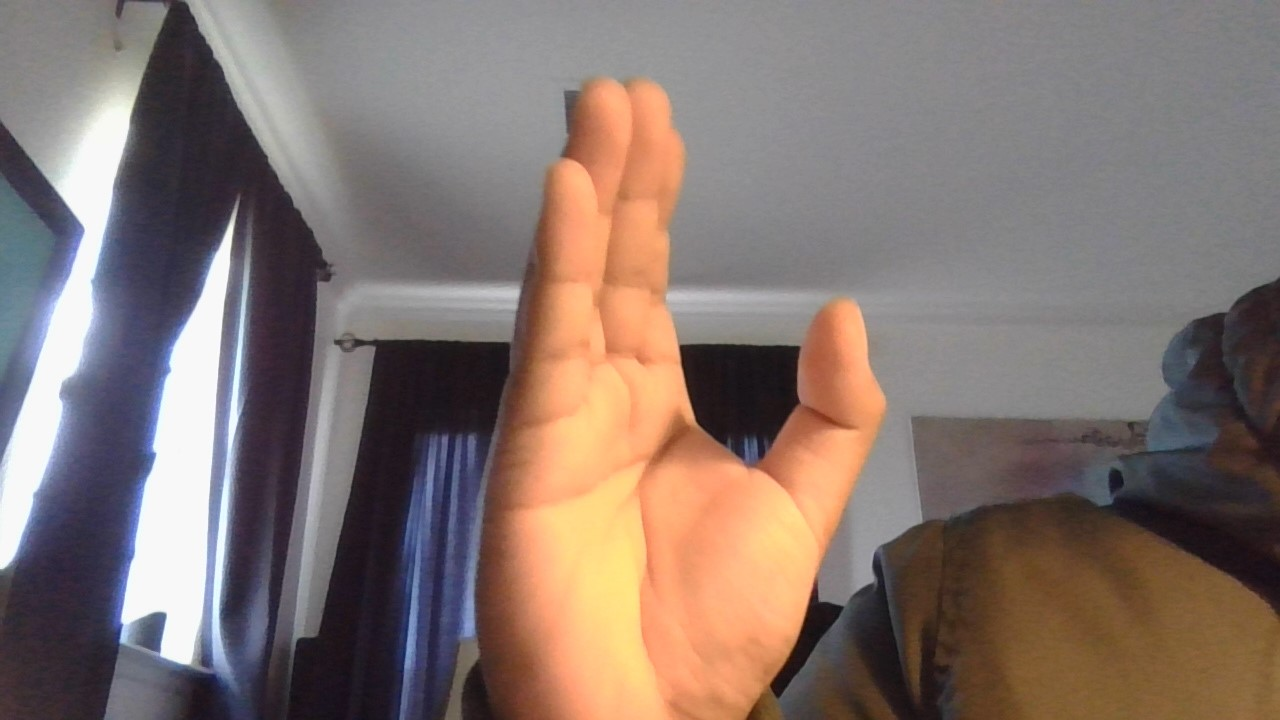j: (387, 66, 908, 720)
